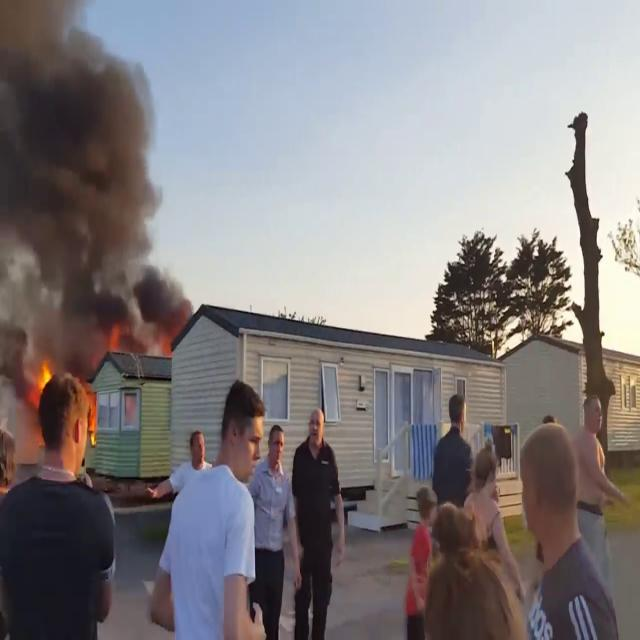Fire: (60, 367, 98, 479), (32, 356, 55, 406)
Smoke: (0, 0, 188, 330)
